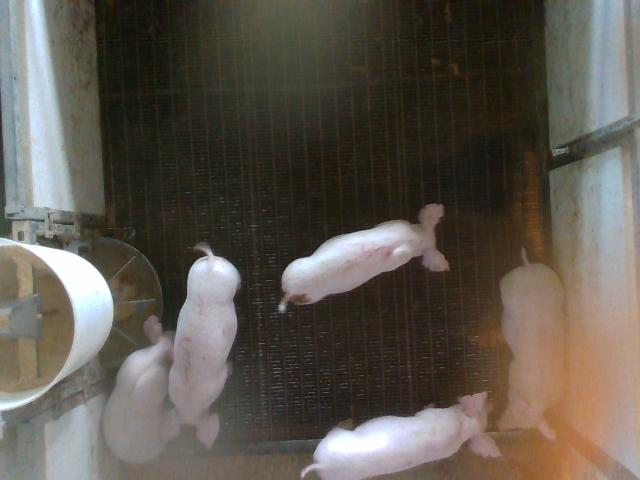pig-3: (162, 245, 240, 448)
pig-5: (279, 204, 449, 312)
